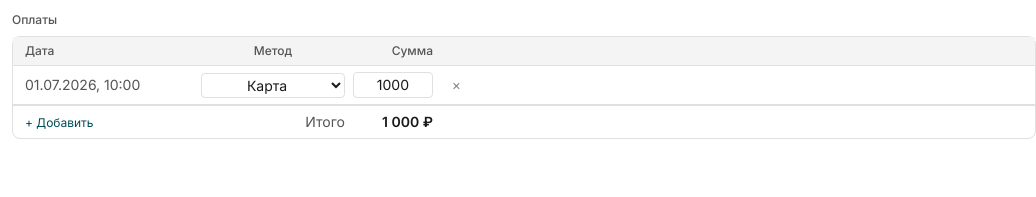
Test case: RecordPaymentsTable — drafts isolated from payments prop › handleRemove on a draft row removes only the draft (saved rows untouched)
# Add a draft
Step 1. Click the button with test id "btn-add-payment" → point(59, 123), box [25,115,94,131]
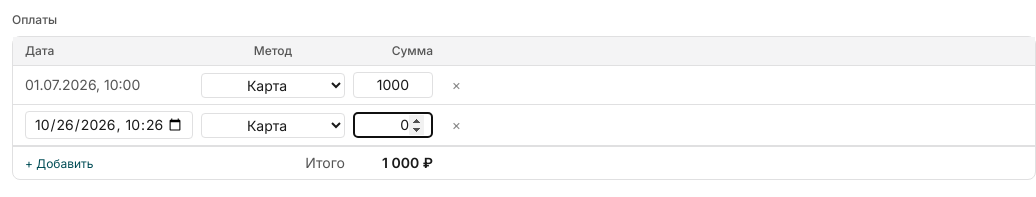
Check: the element with test id "payment-new" is shown, box [13,105,1035,146]
# Click × on the draft
Step 2. Click the button with test id "payment-new-delete" → point(456, 125), box [452,115,461,135]
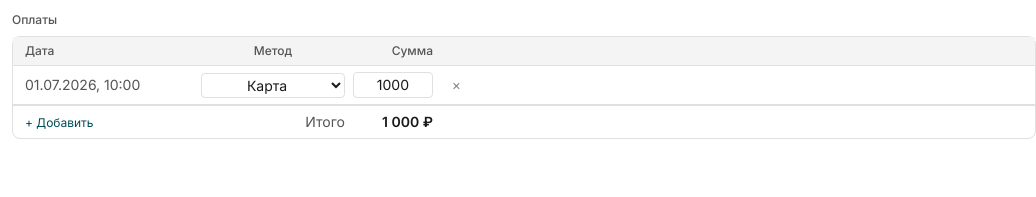
Check: the element with test id "payment-p1" is shown, box [13,66,1035,105]
Check: the element with test id "payment-new" is gone
